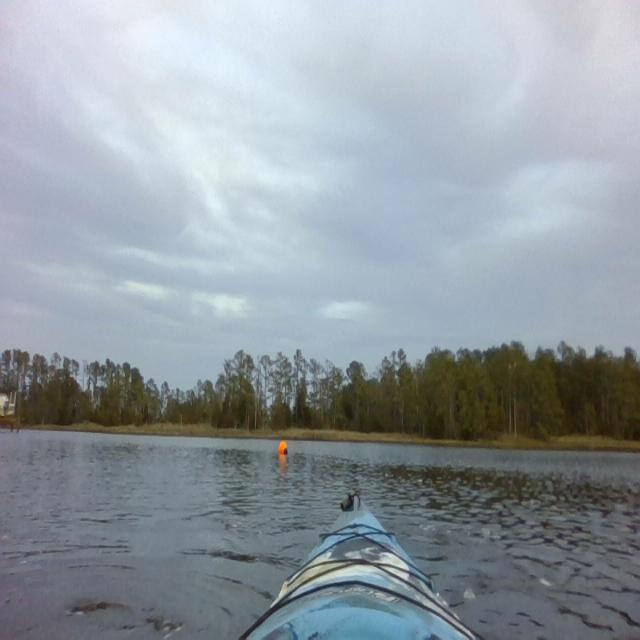Buoy: (277, 438, 289, 458)
